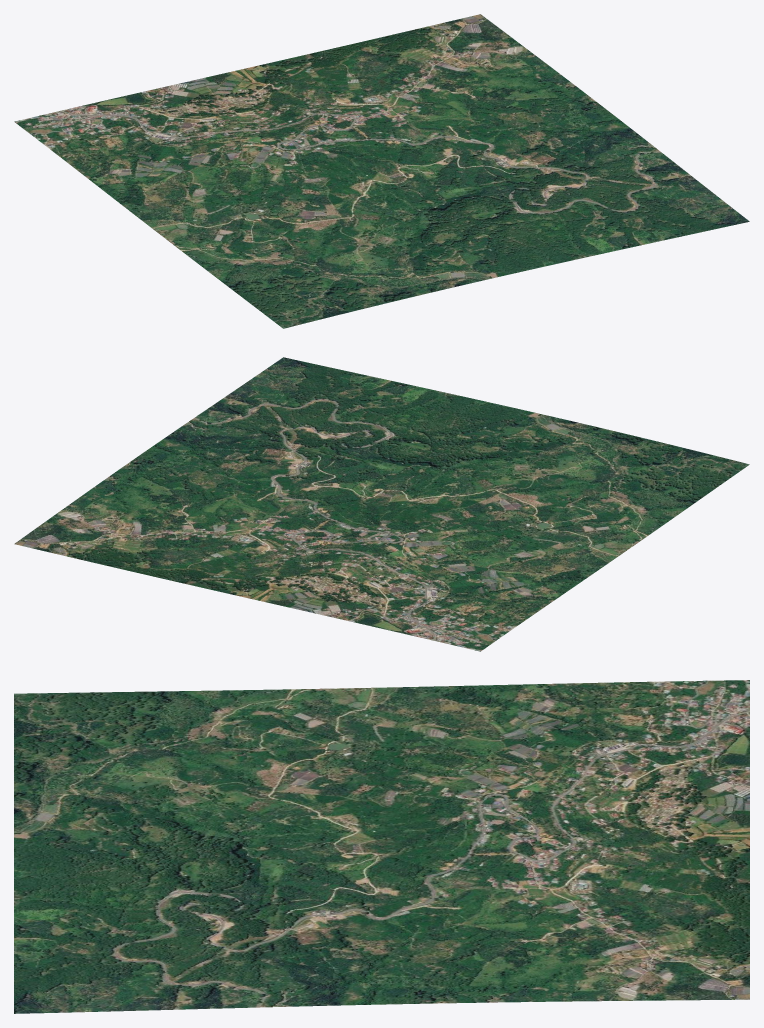
The model's file is terrain_real_T_E07_S05.glb.
3 views of the same model, one above another, from view 1: azimuth 30°, elevation 25°; view 2: azimuth 150°, elevation 25°; view 3: azimuth 270°, elevation 25° (orthographic). The views are drawn at different scales.
Visible parts, largest first — view 1: Terrain_Real_DEM_T_E07_S05; view 2: Terrain_Real_DEM_T_E07_S05; view 3: Terrain_Real_DEM_T_E07_S05.
Boxes of the visible parts, x1,y1,x2,y2 form: Terrain_Real_DEM_T_E07_S05: (14,14,749,328); Terrain_Real_DEM_T_E07_S05: (14,357,749,651); Terrain_Real_DEM_T_E07_S05: (14,680,749,1013).
Bounding box in the file's own units: 2000 × 70.77 × 2000.
1 material, 1 textured.
